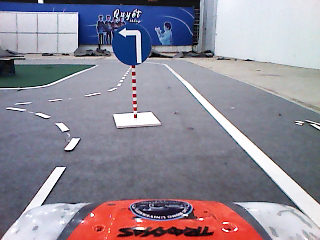turn: (111, 22, 151, 67)
